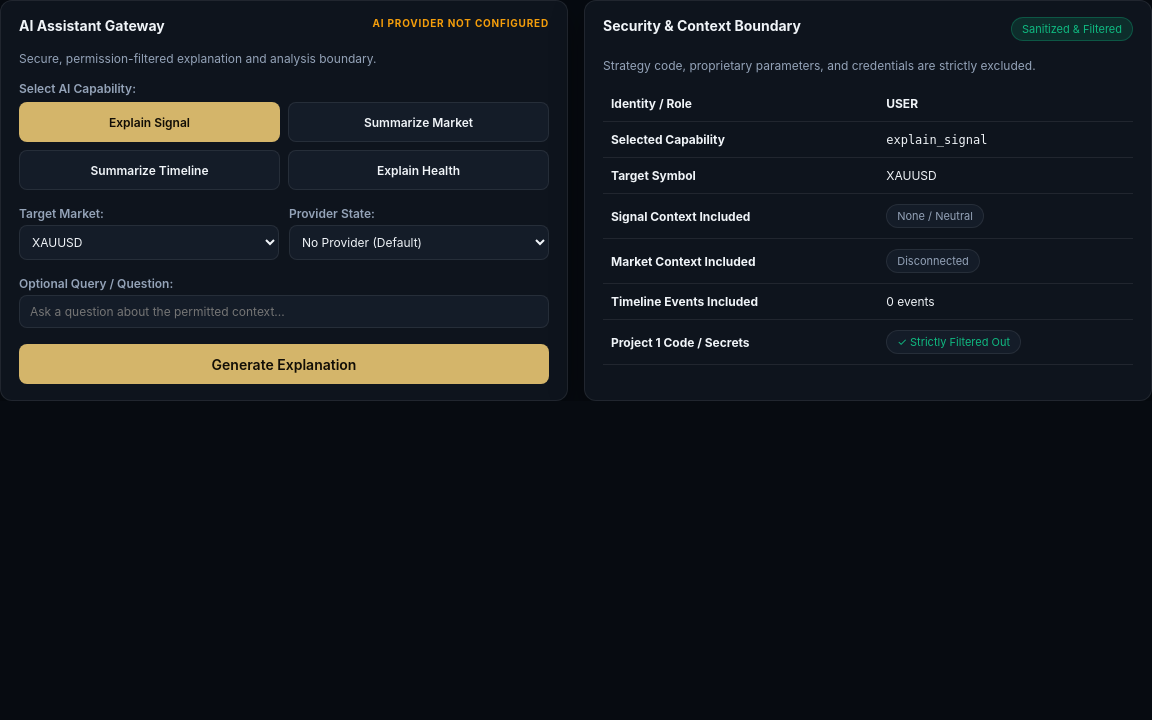
AIAssistant UI Component › handles processing request with simulated error condition
The width and height of the screenshot is (1152, 720).
Select "Provider Error / Timeout" in the dropdown named "Simulate Provider" at (419, 243), box [289,225,549,260]
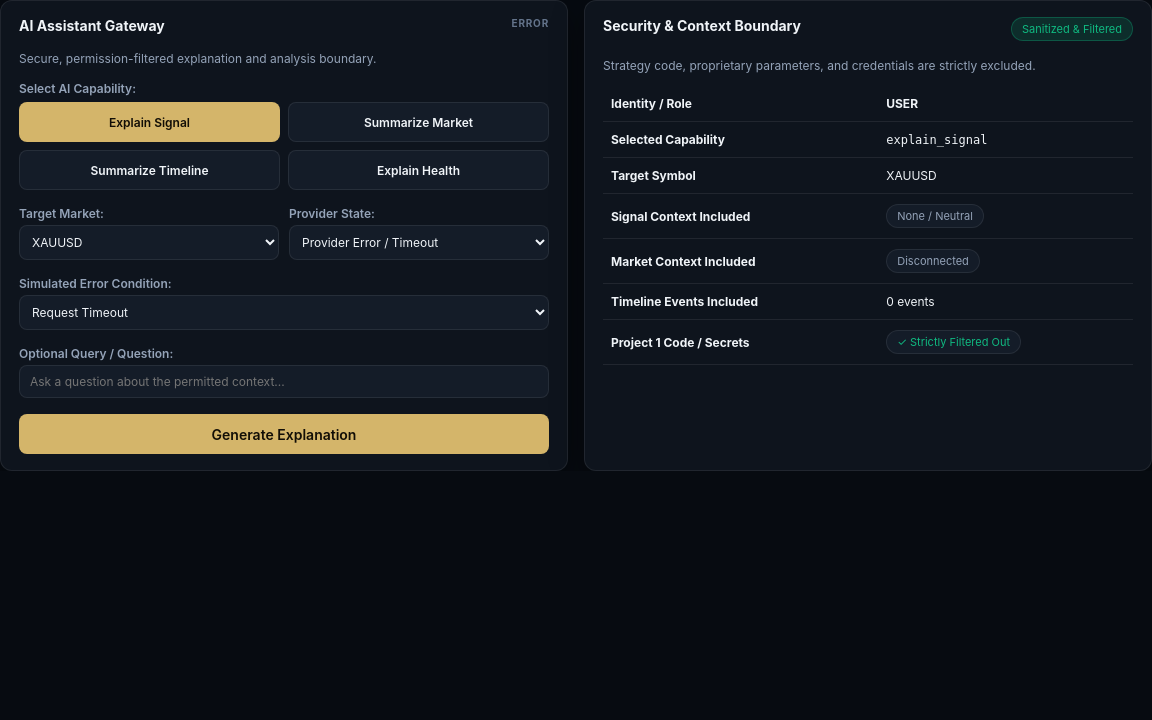
Click the button "Generate Explanation" at (284, 434), box [19,414,549,454]
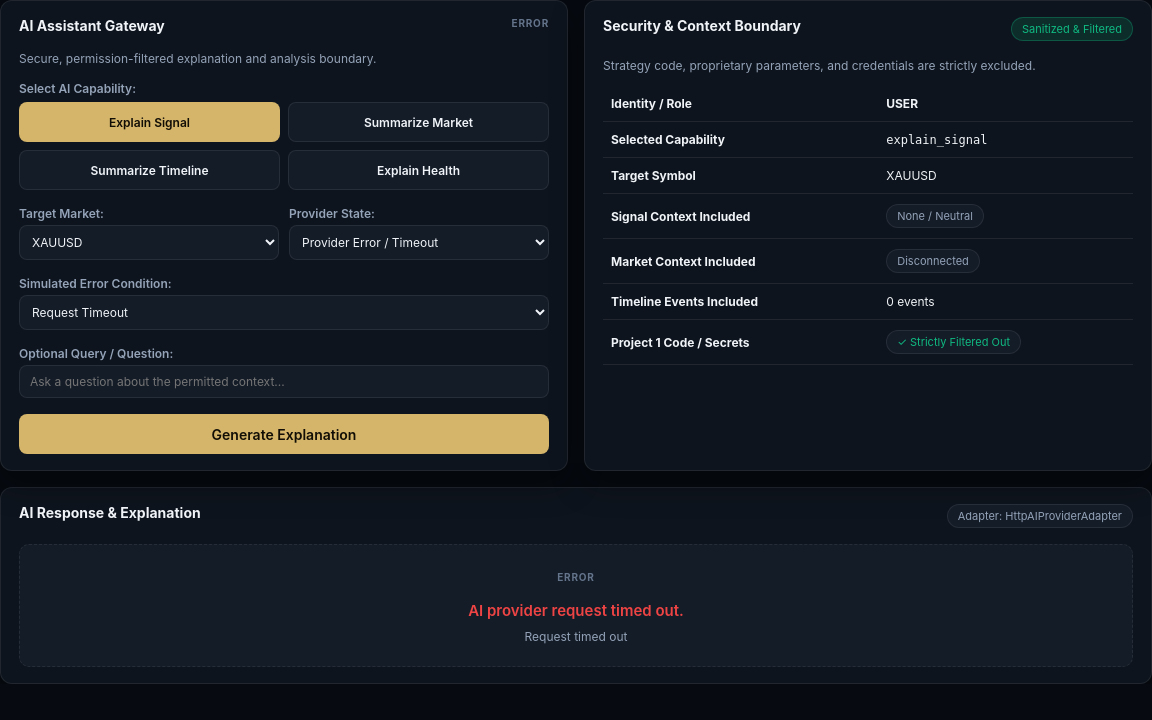
Expected: the text "AI provider request timed out." is shown, [468,601,684,620]
Expected: the text "request timed out" is shown, [468,601,684,620]
